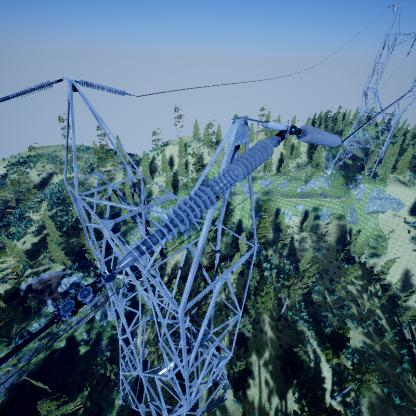insulator: (126, 137, 275, 265), (0, 77, 63, 105), (298, 126, 344, 149), (77, 79, 129, 96)
